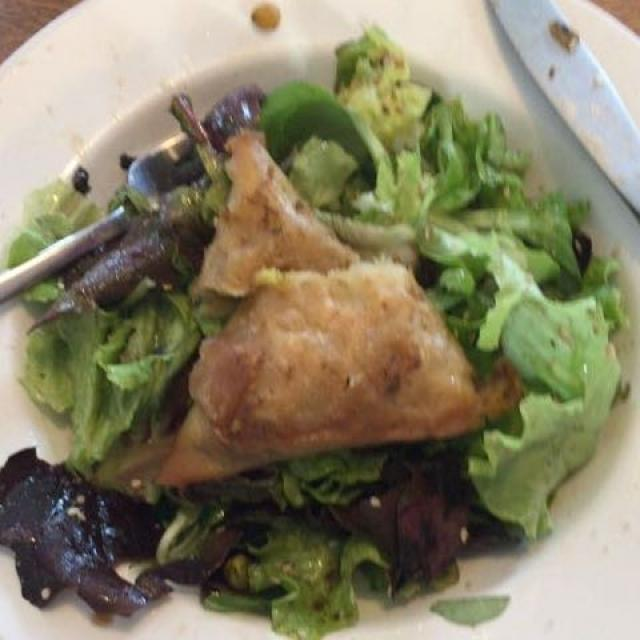salad: (9, 37, 618, 595)
